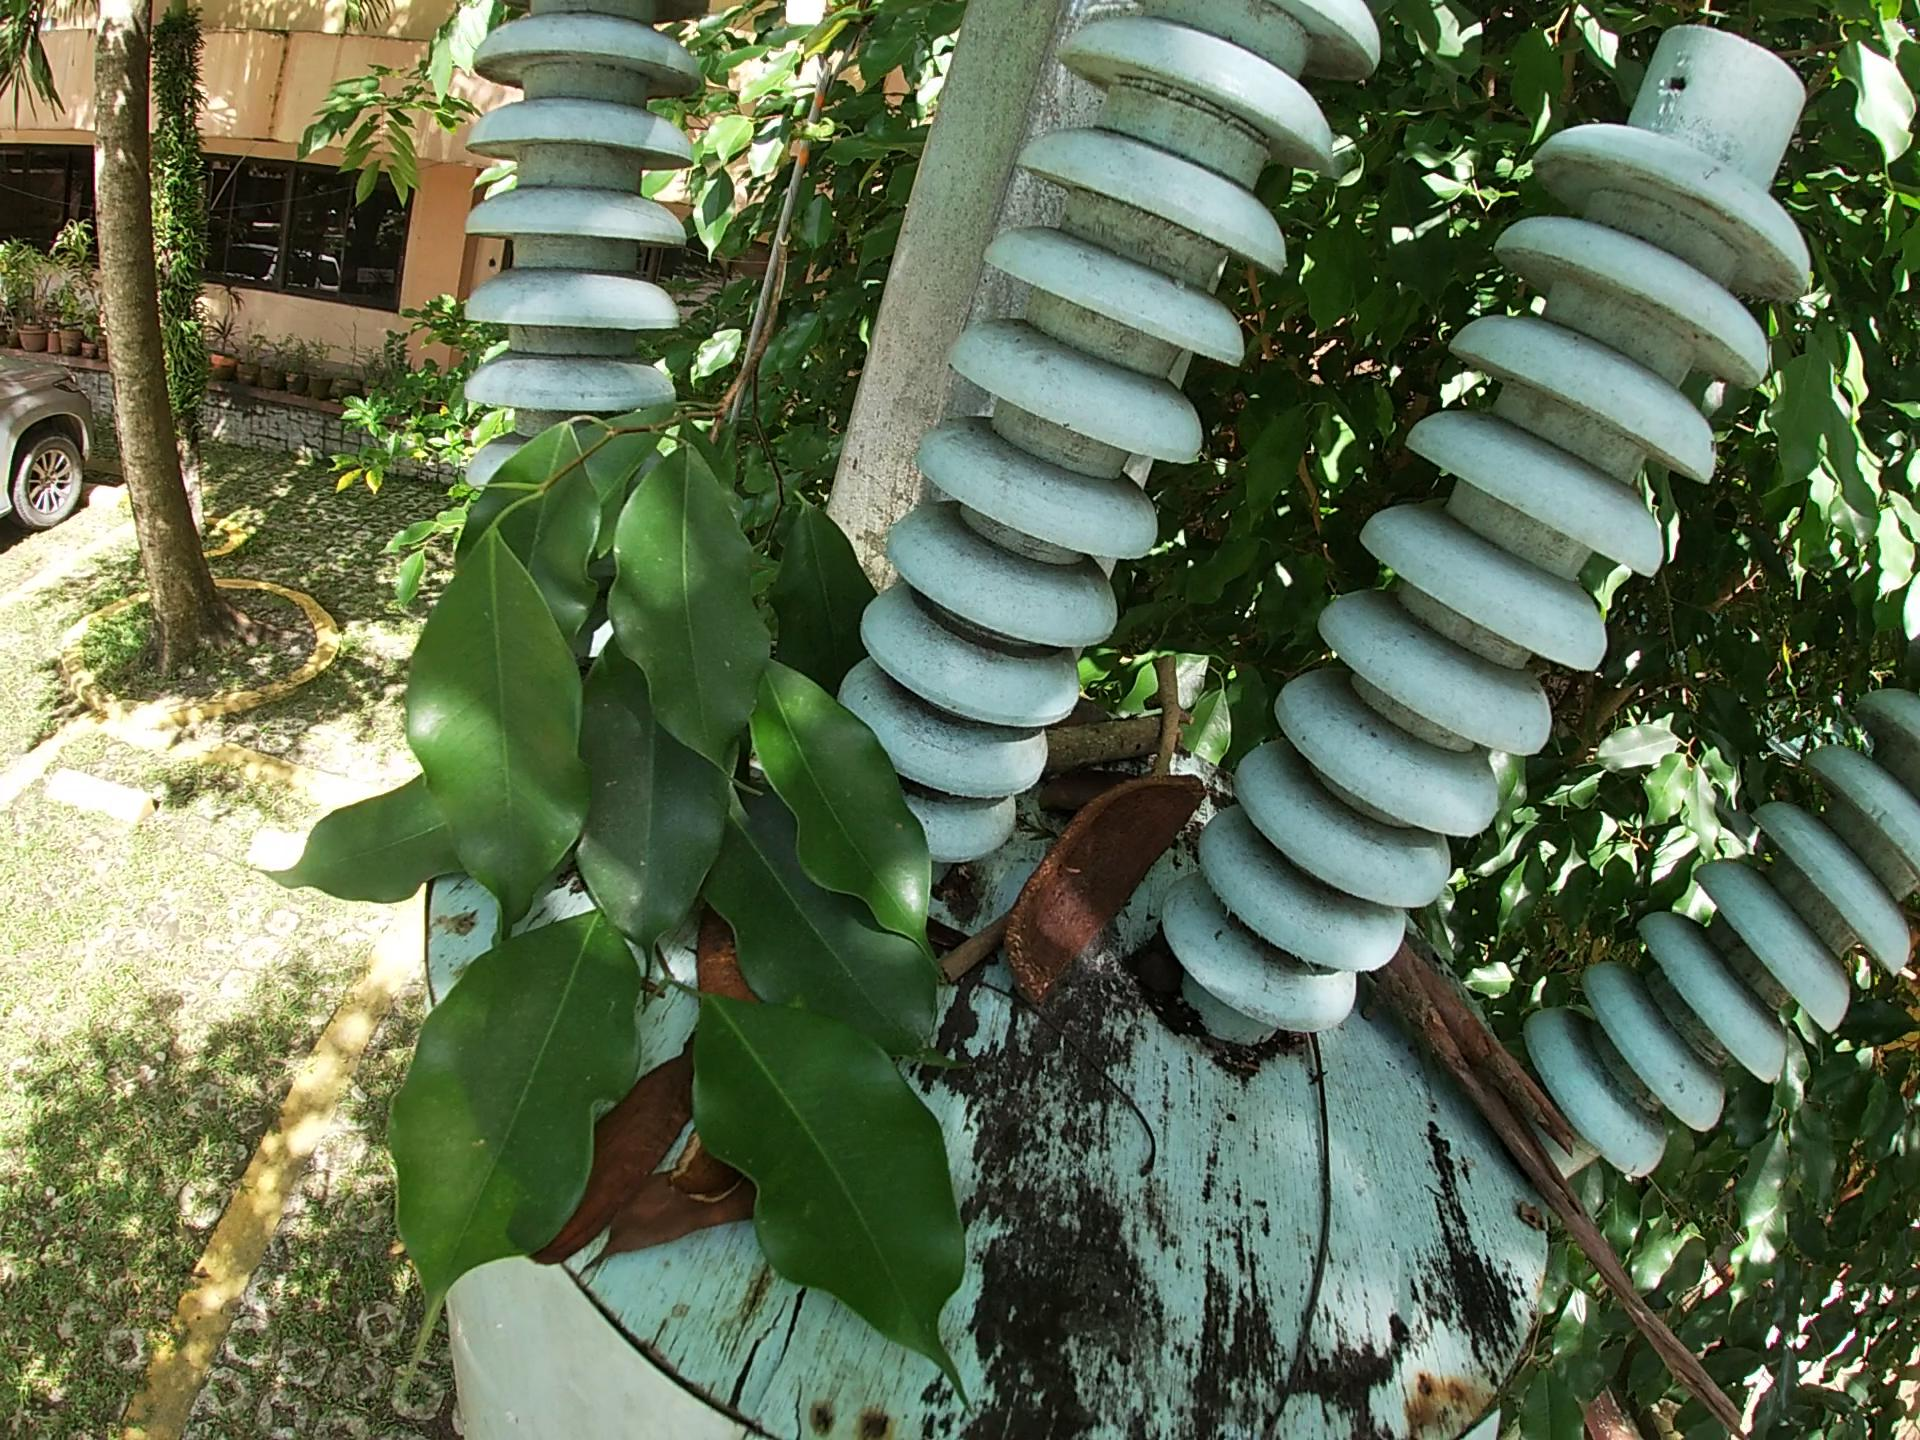branch with leaves: (283, 290, 1033, 1420)
leaf: (606, 1156, 803, 1284), (692, 906, 763, 1024)
mahogany fruit: (995, 771, 1232, 1042), (517, 1030, 705, 1272)
tree branch: (1367, 927, 1791, 1437), (1246, 1003, 1347, 1434), (968, 982, 1187, 1175), (1022, 706, 1193, 782), (1154, 629, 1200, 782), (928, 926, 1005, 988)
